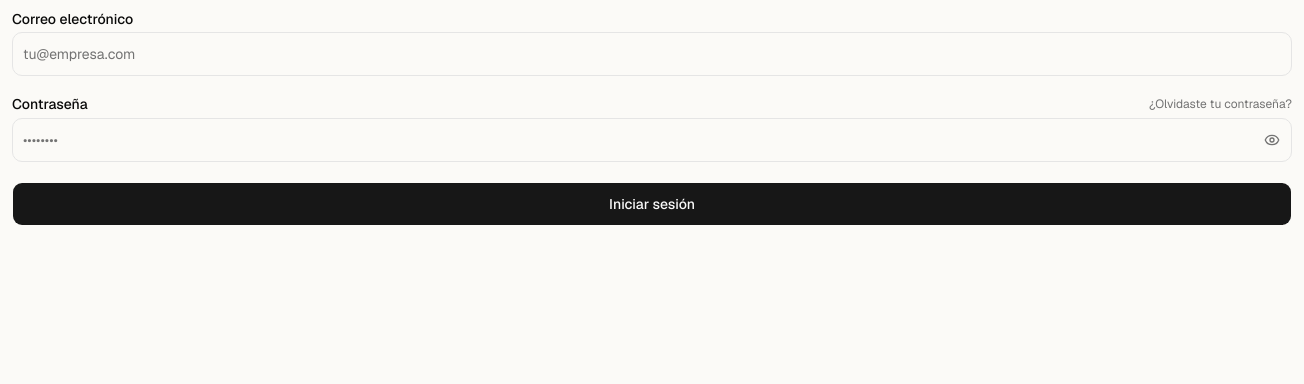
Test: LoginForm — manejo de respuestas del servidor › muestra el paso de verificación cuando code es inactive_user
The image size is (1304, 384).
Type "user@test.com" into the field labelled "Correo electrónico" at (652, 54), box left=12, top=32, right=1292, bottom=76
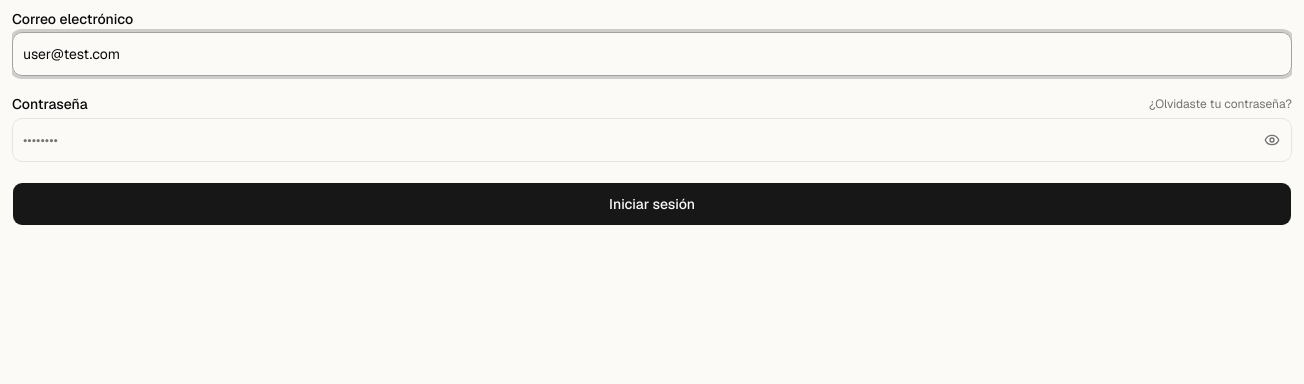
Type "password123" into the password field labelled "Contraseña" at (652, 140), box left=12, top=118, right=1292, bottom=162
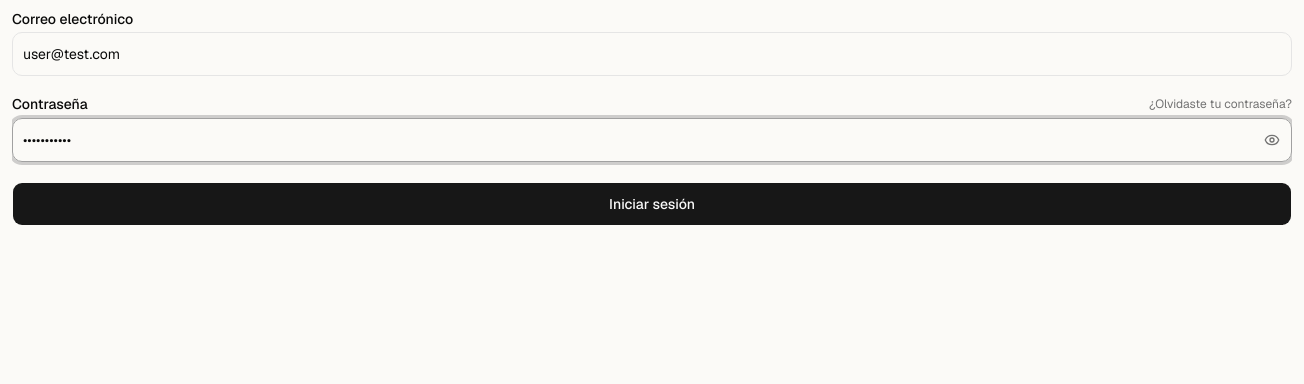
Click the button "Iniciar sesión" at (652, 204), box left=12, top=182, right=1292, bottom=226
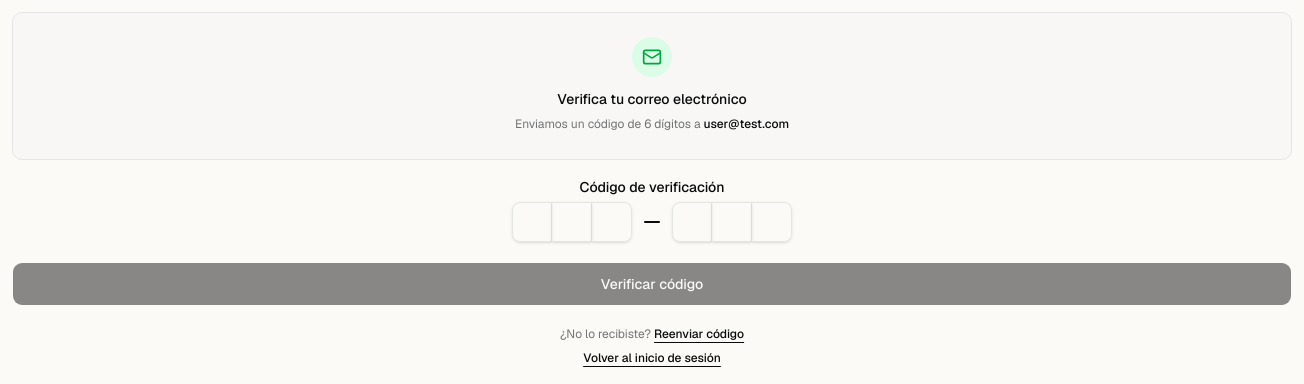
Result: the field labelled "Código de verificación" is shown at left=512, top=202, right=792, bottom=242
